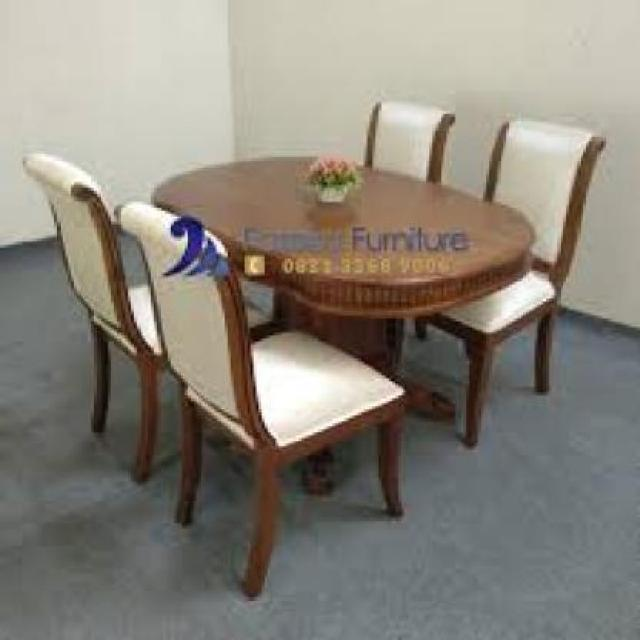tables: (150, 152, 536, 505)
